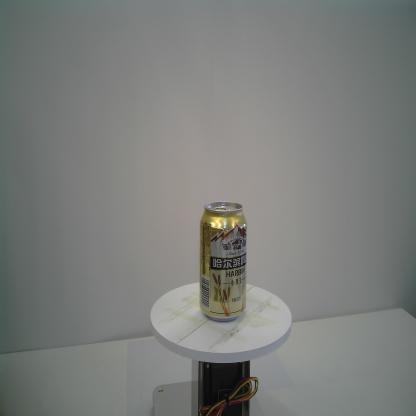Alcohol: (198, 200, 249, 324)
